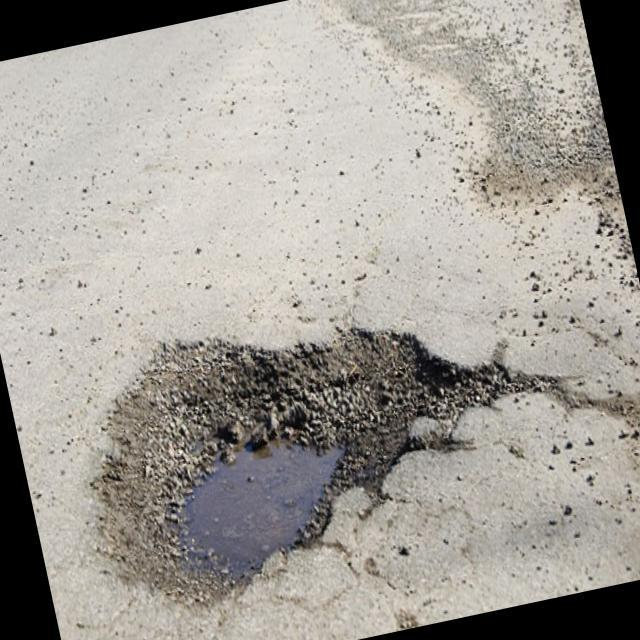Pothole: (86, 286, 483, 605)
